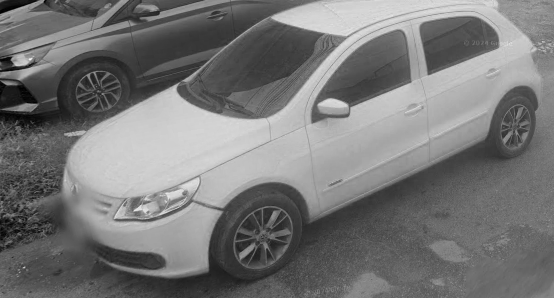car: (59, 1, 545, 278)
